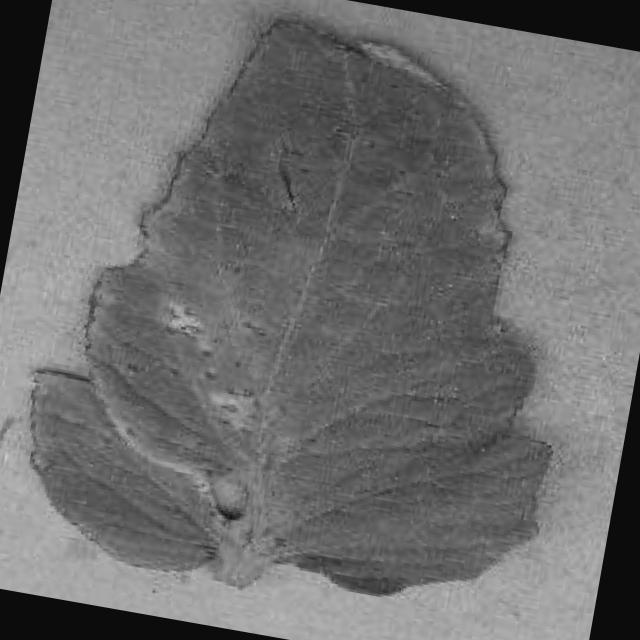bacterial spot: (34, 18, 549, 593)
